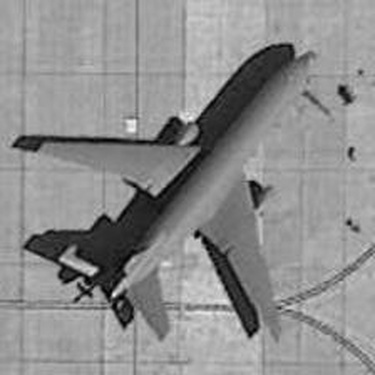airplane: (20, 25, 331, 339)
